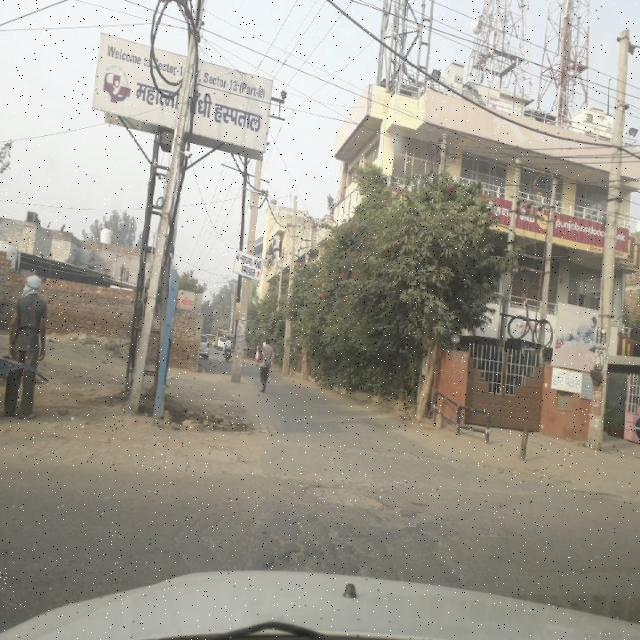D20: (178, 516, 396, 572)
D50: (298, 483, 413, 518)
